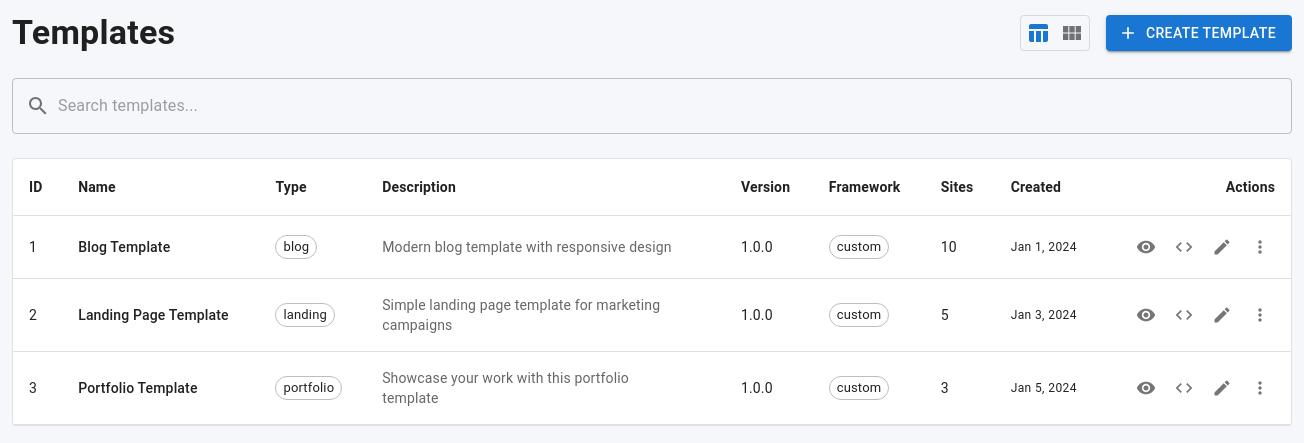
TemplatesPage › Search Functionality › should show empty state when no matches
The image size is (1304, 443).
Expected: the text "Blog Template" is shown, [78,239,170,255]
Type "NonExistentTemplate" into the field with placeholder "Search templates..." at (675,106), box [58,78,1292,134]
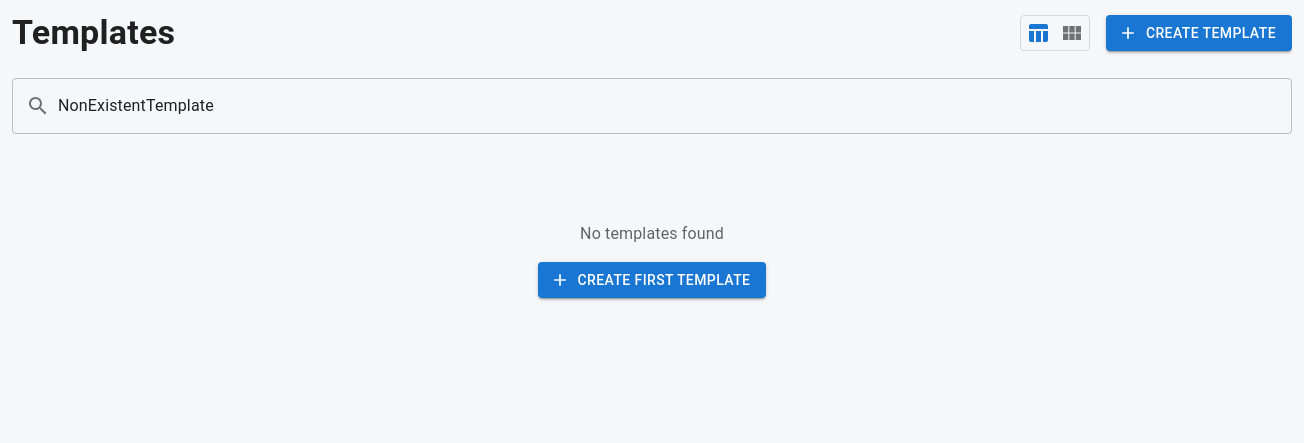
Expected: the text "No templates found" is shown, [580,224,724,243]
